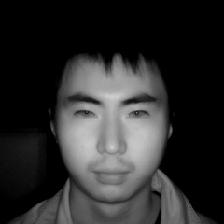normal: (46, 30, 176, 202)
